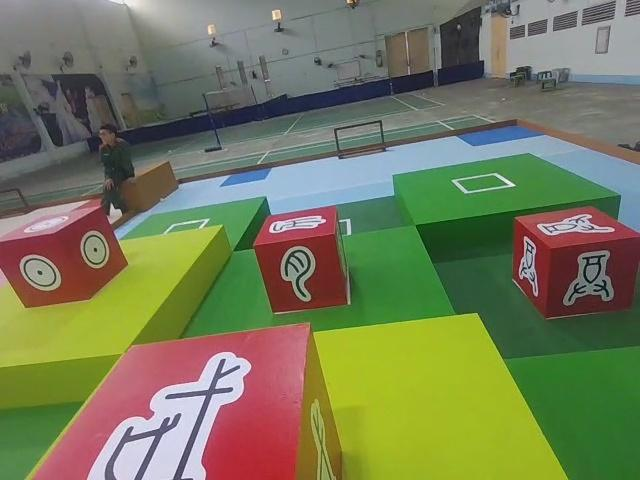R2 Fake: (251, 201, 351, 315)
R2 Real: (27, 320, 344, 480), (512, 203, 640, 321), (0, 201, 129, 311)
